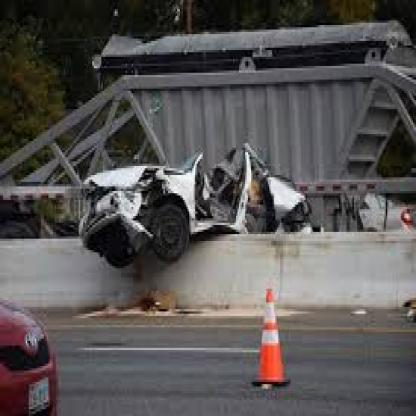accident: (52, 106, 324, 284)
